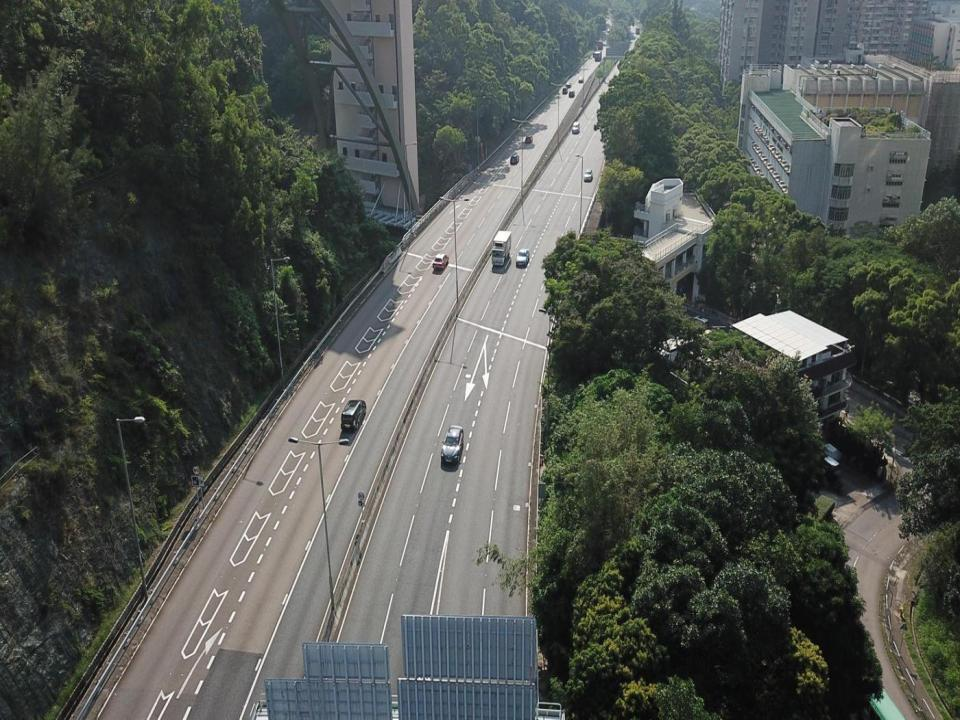car: (341, 398, 367, 432), (441, 424, 463, 464), (432, 252, 449, 271), (515, 248, 529, 266), (584, 169, 593, 182), (571, 121, 580, 134), (524, 134, 534, 144), (510, 154, 519, 164), (568, 90, 575, 99), (565, 81, 572, 89), (562, 86, 568, 95), (578, 77, 584, 83)
truck: (490, 230, 512, 266)
